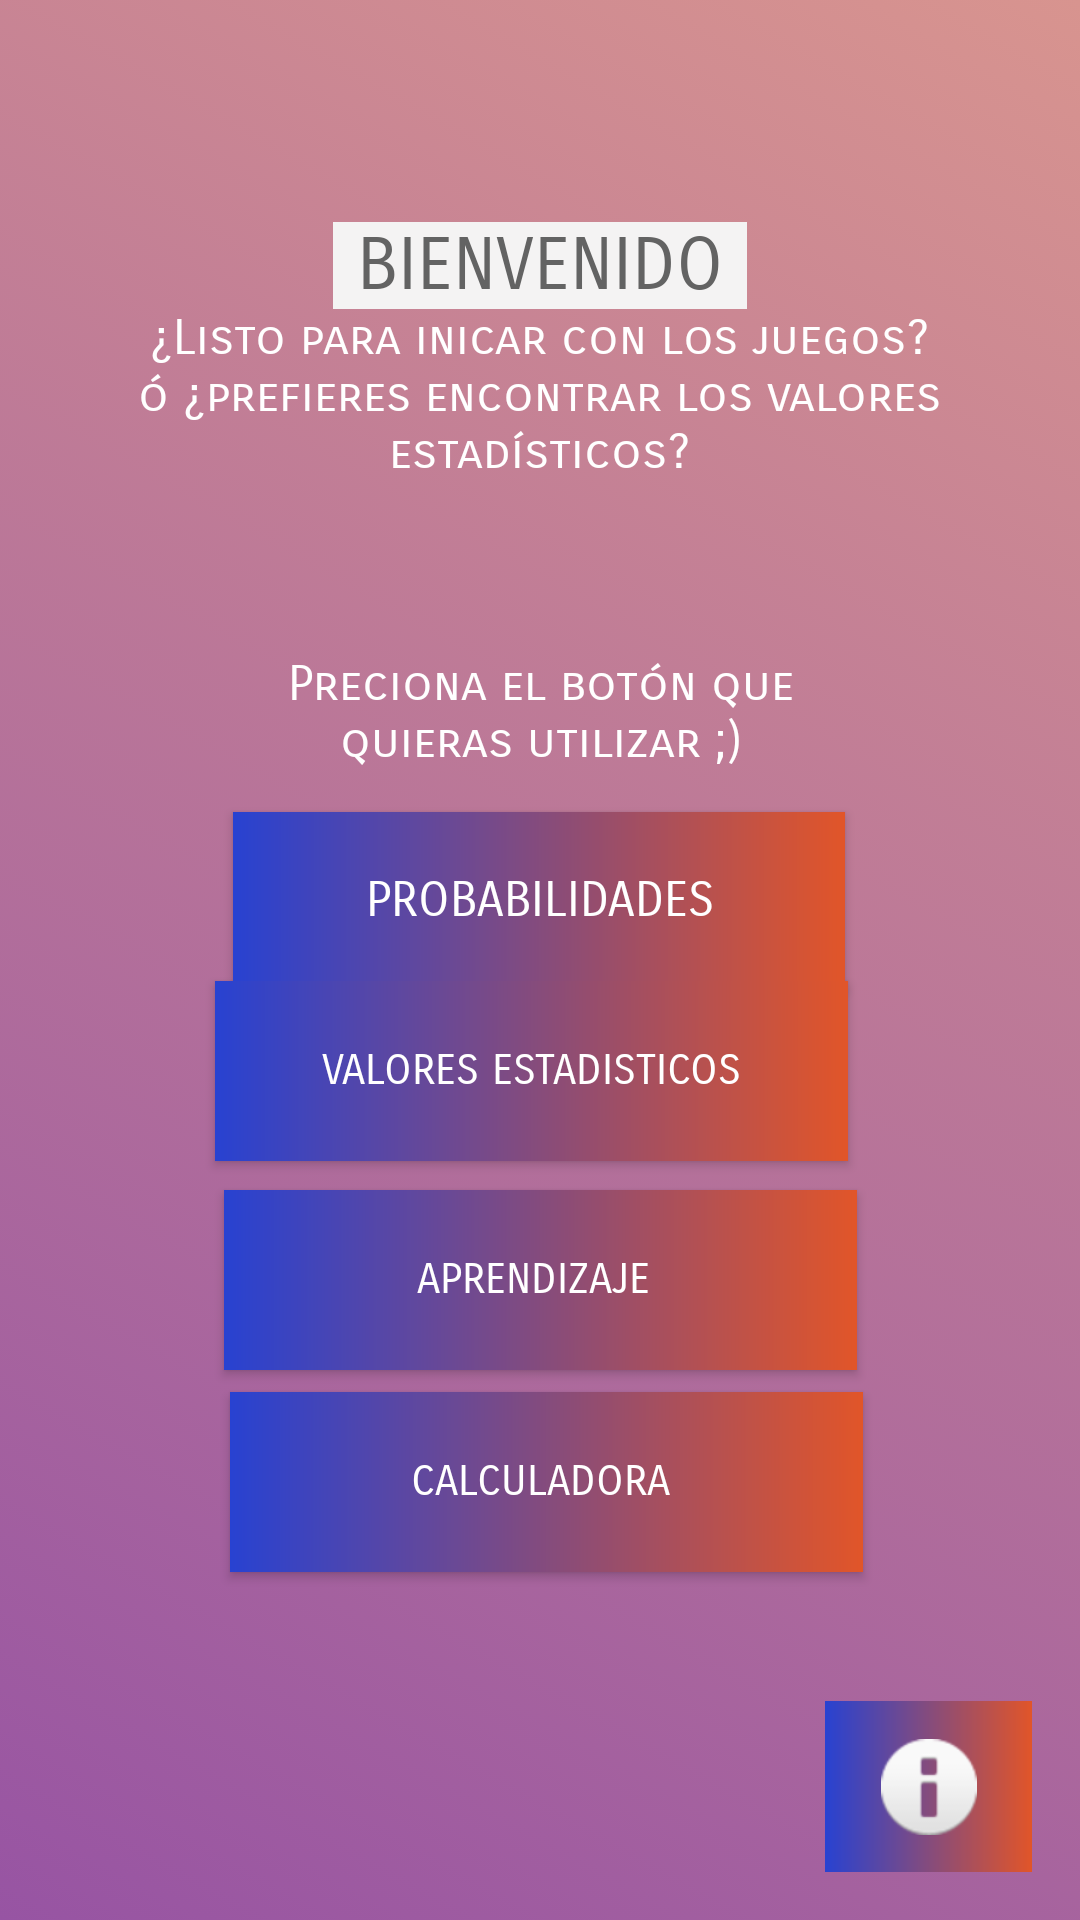

Where icons sit on this 1080 × 1920 app screen, as (x1, y1, x2, y2):
info: (825, 1701, 1032, 1872)
